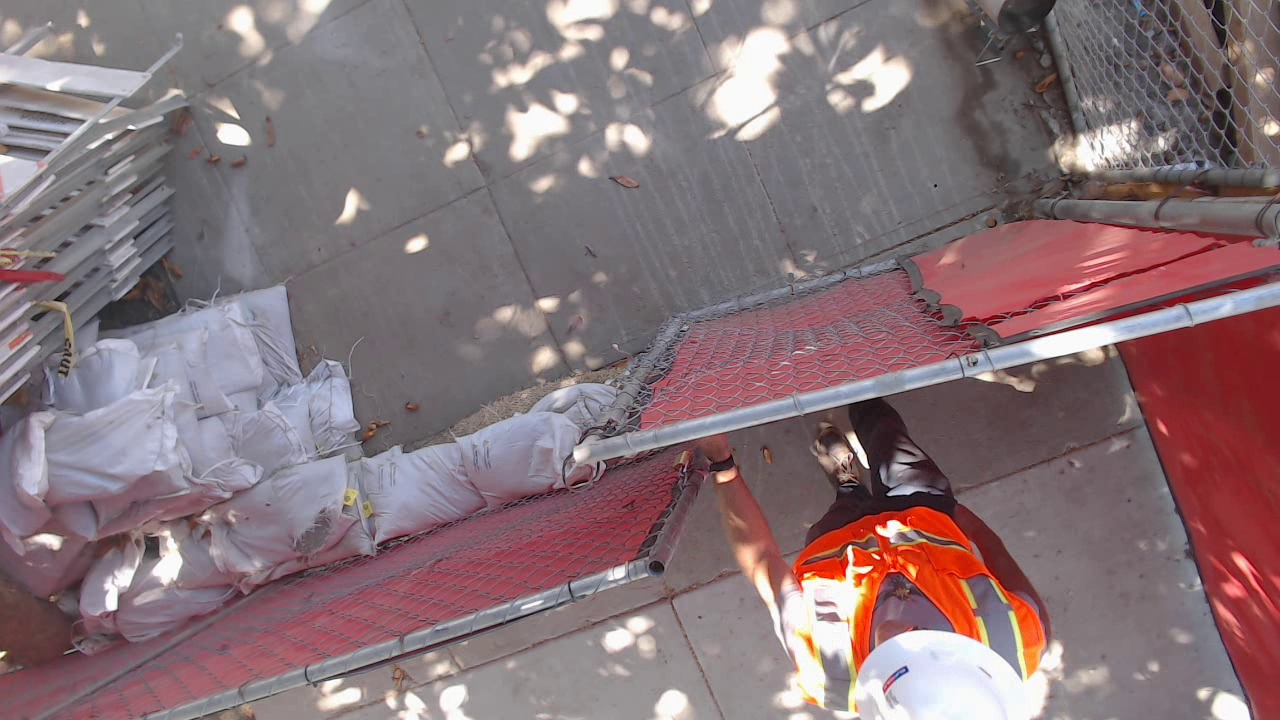hardhat: (854, 628, 1035, 720)
person: (703, 440, 1052, 720)
safetyvest: (789, 508, 1046, 706)
